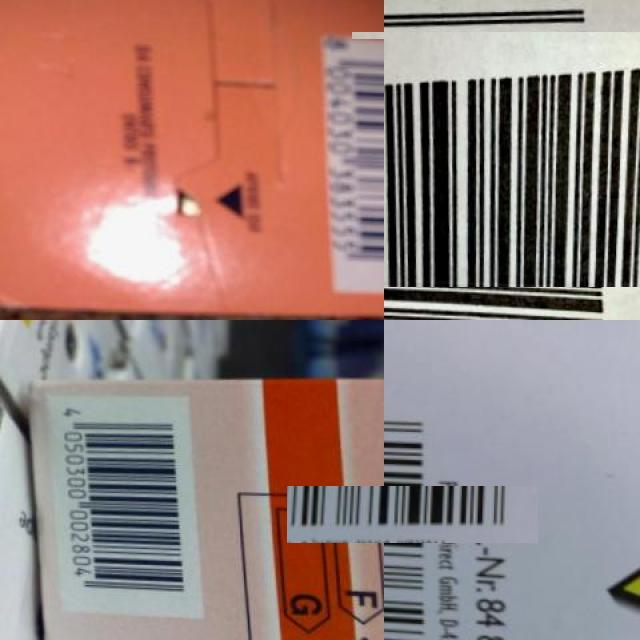Barcode: (368, 16, 640, 304), (51, 392, 208, 624), (335, 437, 490, 591), (331, 39, 384, 298)
